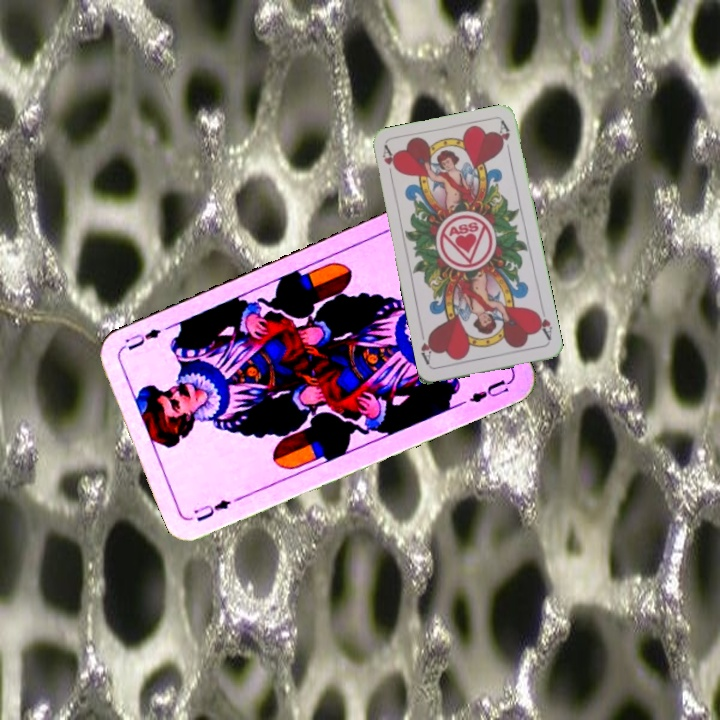EU: (190, 491, 245, 524)
HA: (378, 142, 400, 183), (531, 307, 555, 343)
